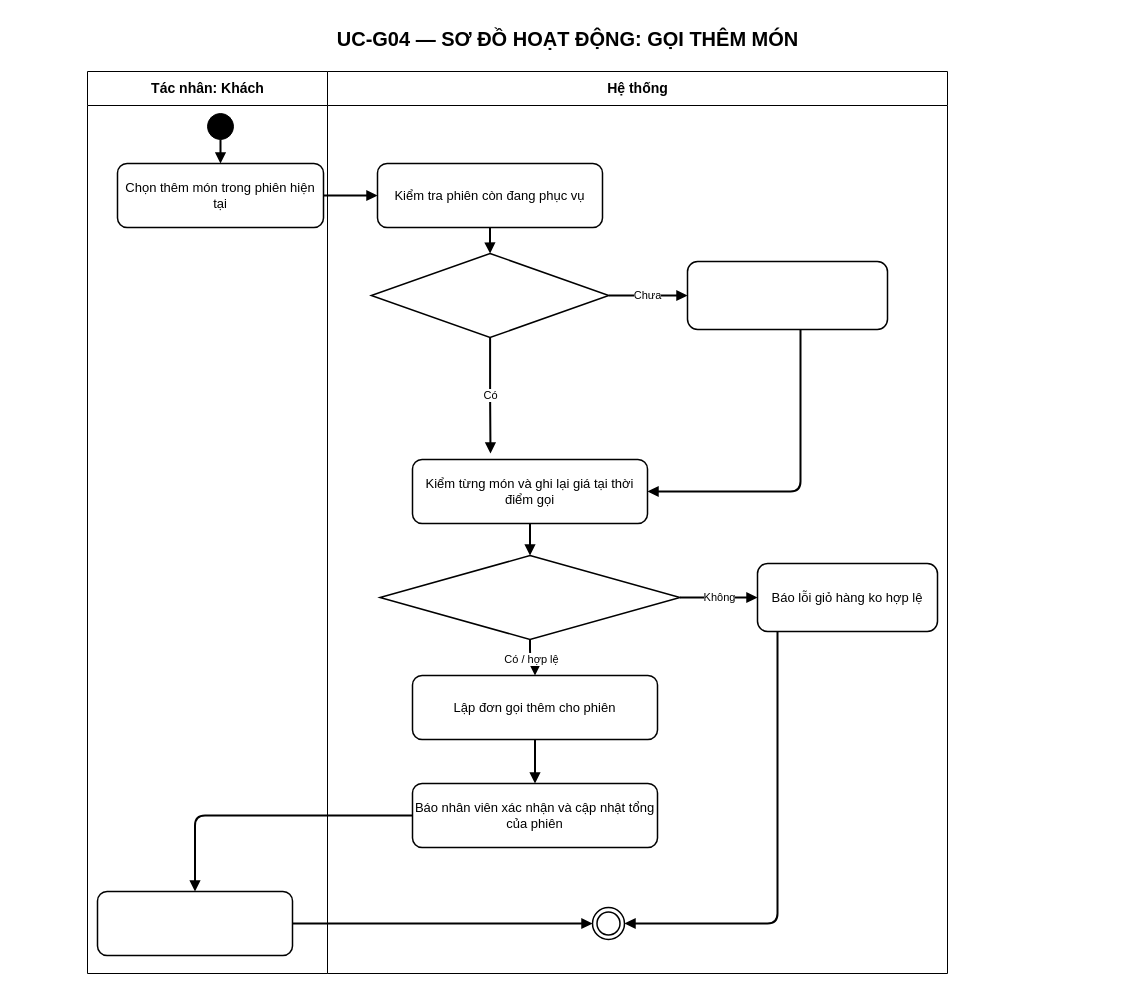
Some shapes in this 1134 by 991 pixel diagram are drawn without their labels. The centre of each missing label's shape, as x and y in pixels:
"Giỏ gọi thêm hợp lệ?" goes at point 529,597.
"Nhận đơn gọi thêm và tiếp tục theo dõi" goes at point 194,923.
"Phiên đã có đơn trước đó?" goes at point 489,295.
"Xử lý như đơn đầu tiên của phiên" goes at point 787,295.
